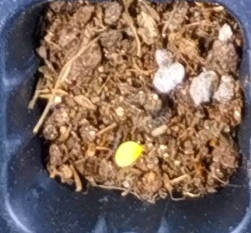pepper seed: (41, 56, 187, 225)
